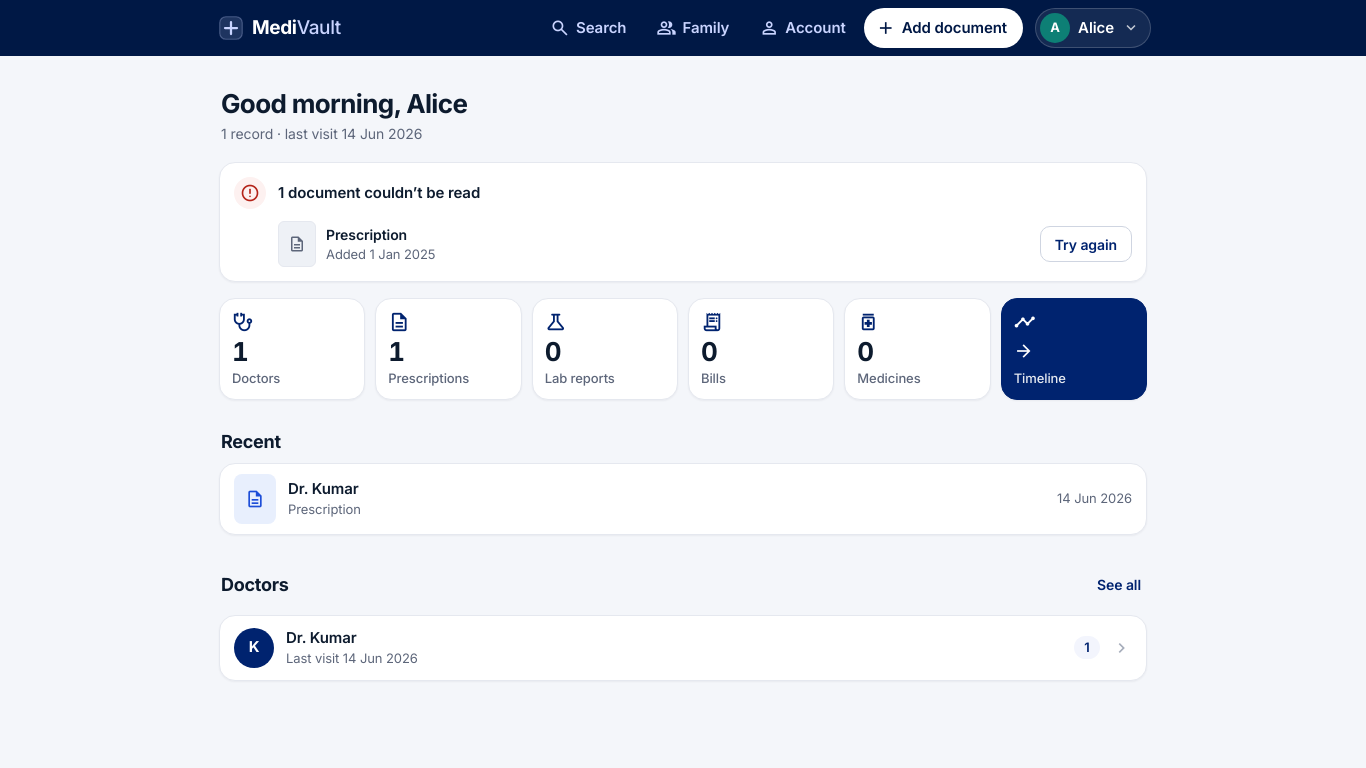
Test: the warning clears when the failed document is deleted
Check: the text "1 document couldn’t be read" is shown, box [278,183,480,202]
Click the button "Prescription Added 1 Jan 2025" at [297, 244], box [274,217,1034,271]
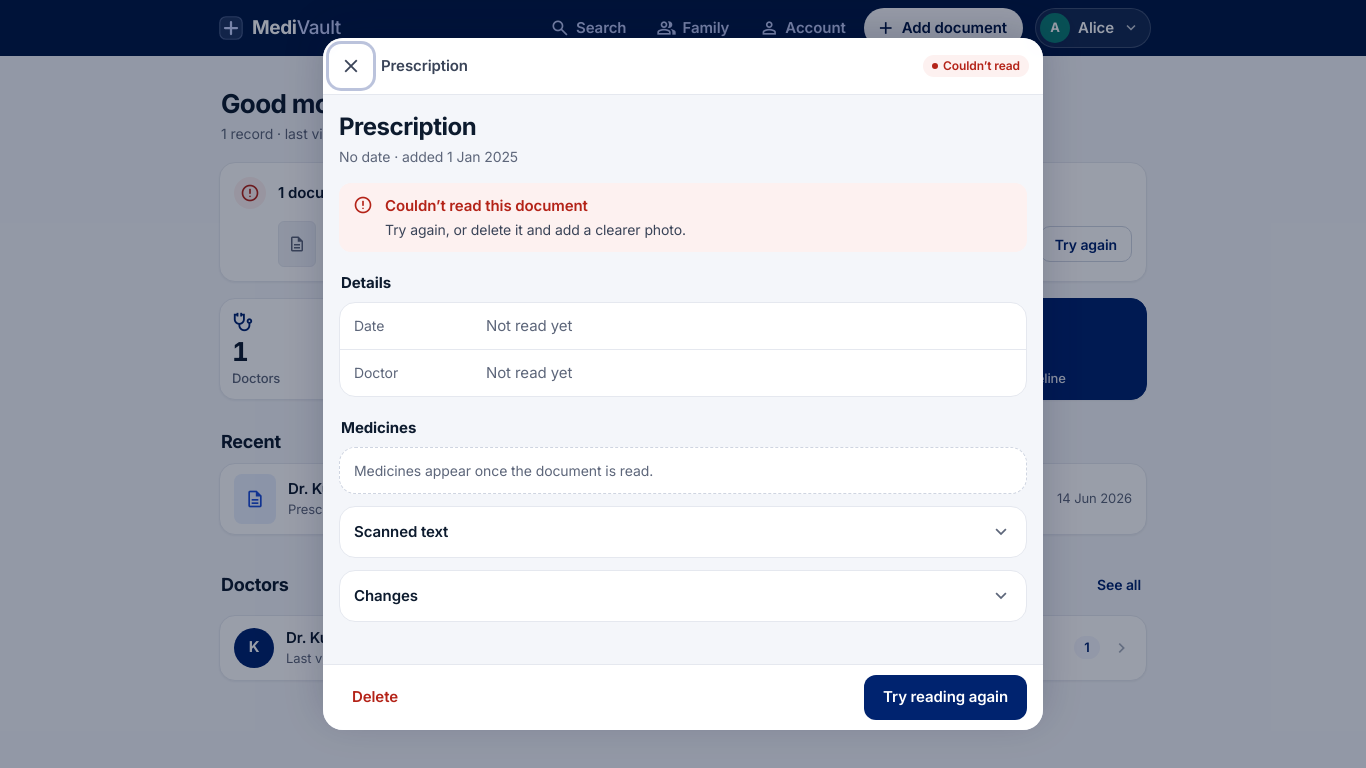
Click the button "Delete" at [375, 697], box [339,675,411,720]
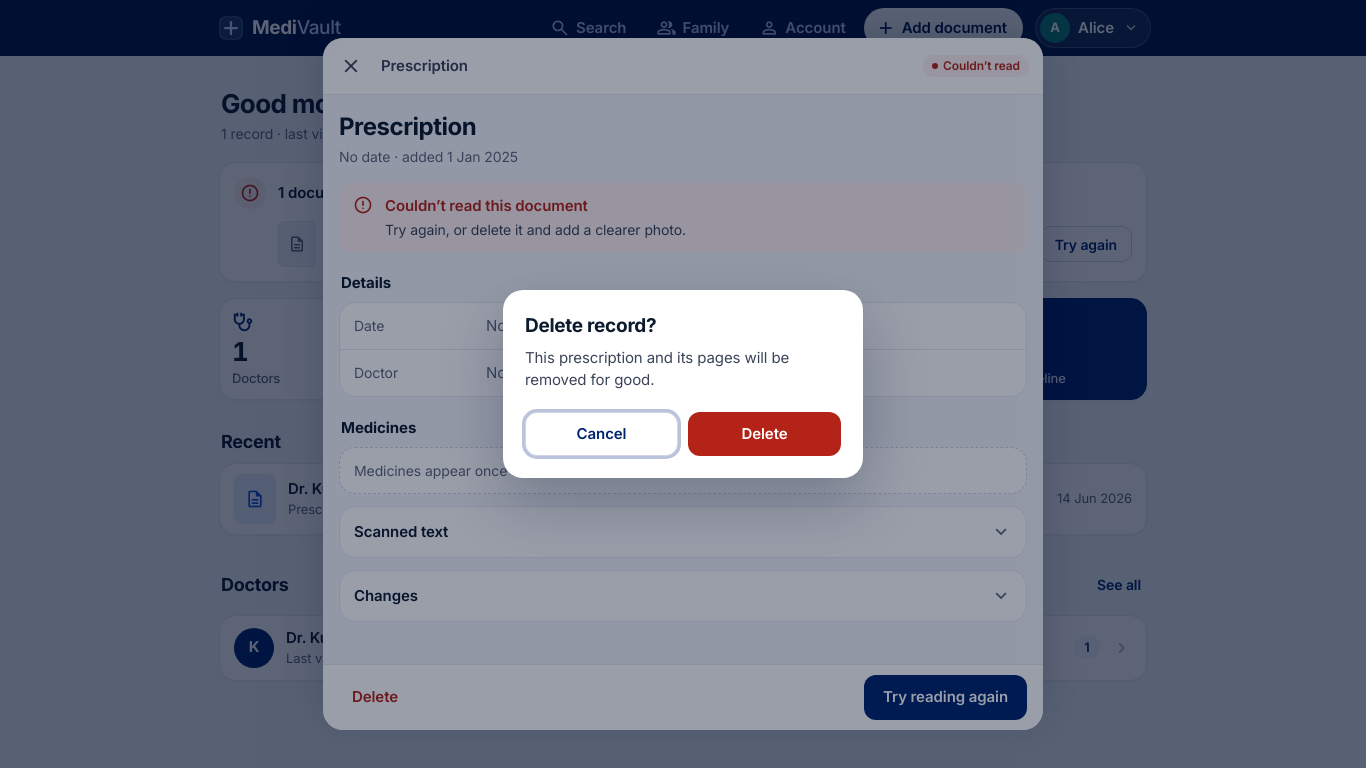
Click the button "Delete" at [764, 434], box [688,412,841,456]
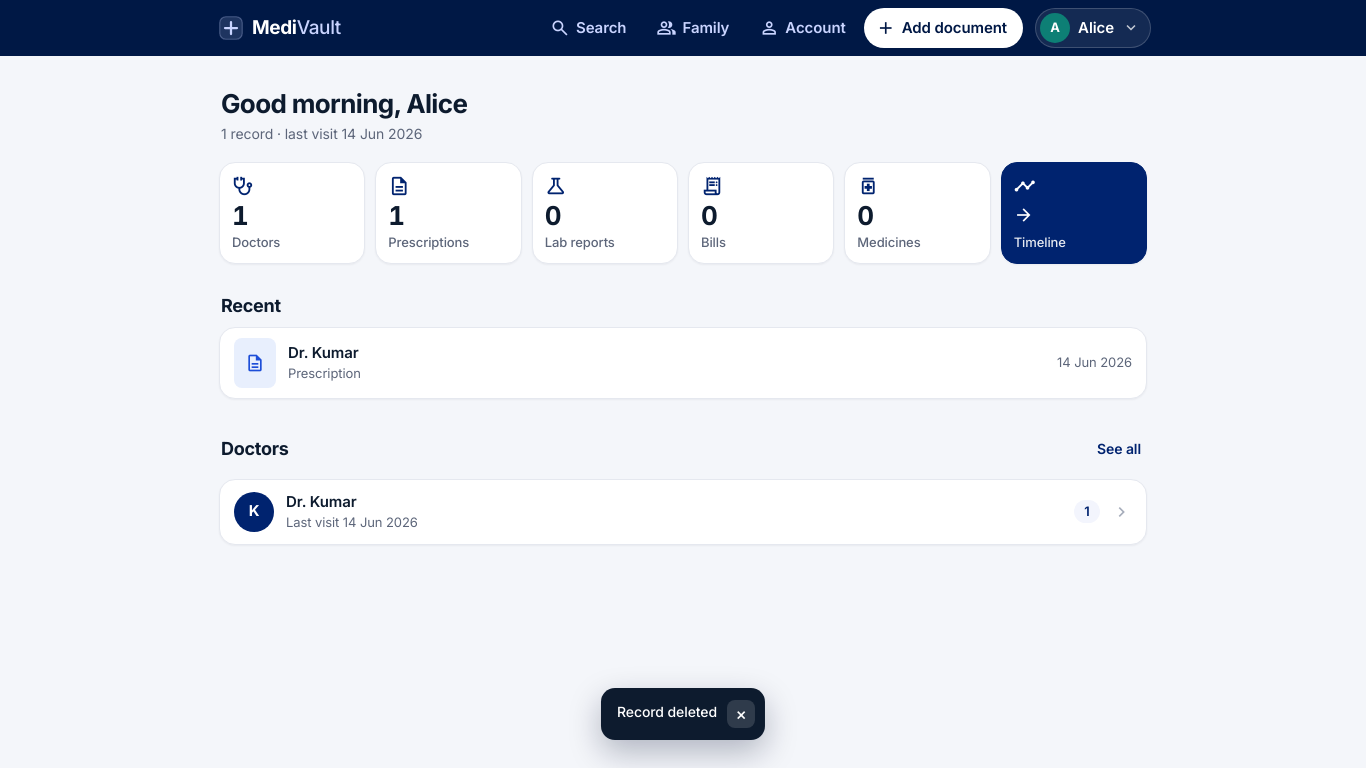
Check: the text "couldn’t be read" is gone
